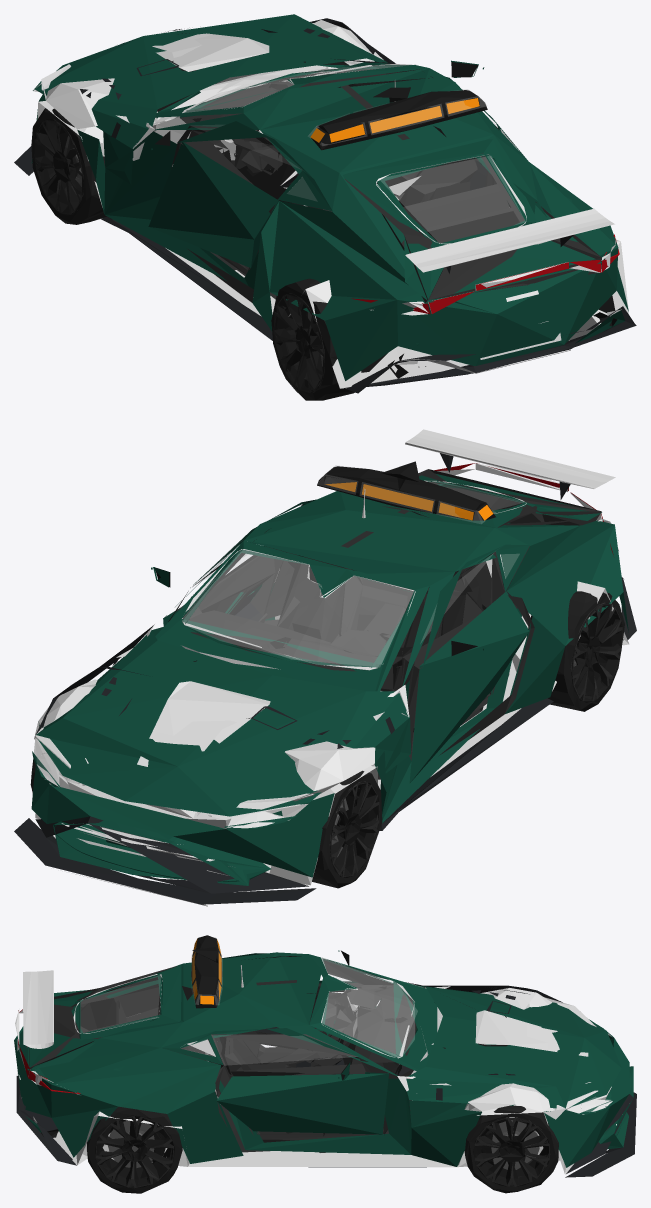
3 views of the same model, one above another, from view 1: azimuth 30°, elevation 25°; view 2: azimuth 150°, elevation 25°; view 3: azimuth 270°, elevation 25° (orthographic). The views are drawn at different scales.
Parts seen in each view (by area): view 1: body, wheel_FR_spin, wheel_RR_spin; view 2: body, wheel_FR_spin, wheel_RR_spin; view 3: body, wheel_FL_spin, wheel_RL_spin.
Boxes of the visible parts, x1,y1,x2,y2 form: body: [14, 14, 636, 393]; wheel_FR_spin: [271, 278, 354, 400]; wheel_RR_spin: [31, 108, 106, 224]; body: [14, 429, 636, 906]; wheel_FR_spin: [526, 591, 624, 711]; wheel_RR_spin: [312, 770, 382, 888]; body: [14, 935, 636, 1177]; wheel_FL_spin: [87, 1106, 182, 1193]; wheel_RL_spin: [464, 1105, 558, 1193].
Bounding box in the file's own units: 2.18 × 1.5 × 4.51.
